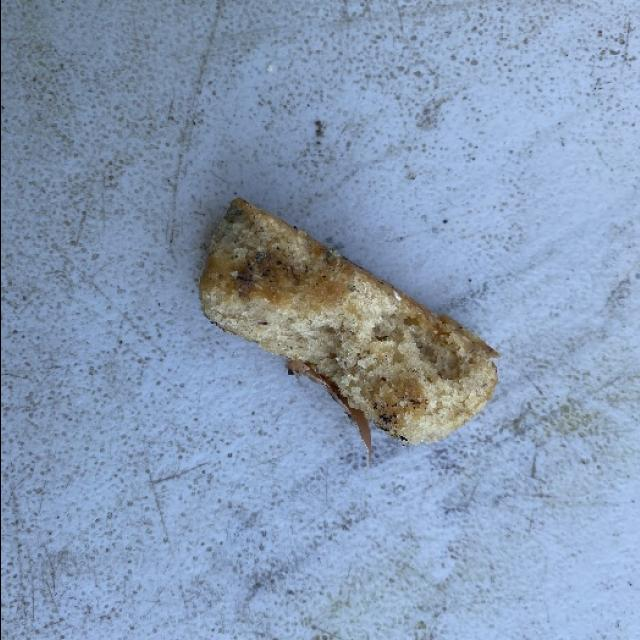organik: (192, 206, 498, 448)
